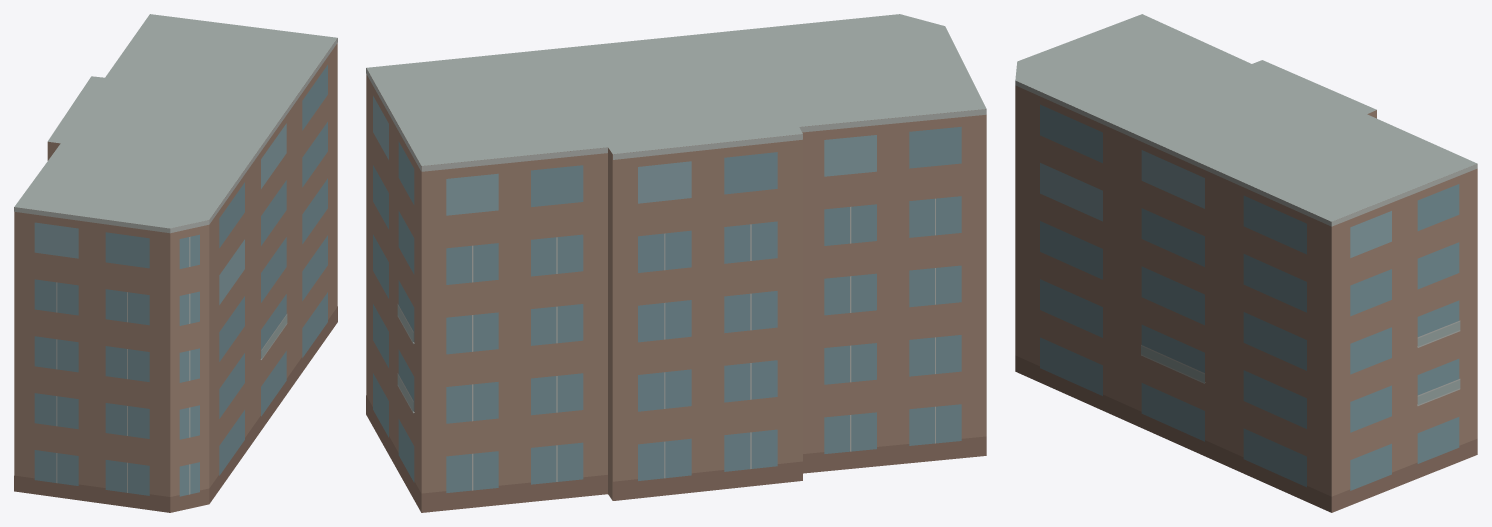
File: survey-upis-32584593.glb
The picture shows the model from 3 angles, left to right: view 1: azimuth 30°, elevation 25°; view 2: azimuth 150°, elevation 25°; view 3: azimuth 270°, elevation 25°; orthographic projection. The views are drawn at different scales.
Parts seen in each view (by area): view 1: survey-upis-32584593.tmp; view 2: survey-upis-32584593.tmp; view 3: survey-upis-32584593.tmp.
Boxes of the visible parts, x1,y1,x2,y2 form: survey-upis-32584593.tmp: (14, 14, 337, 512); survey-upis-32584593.tmp: (366, 14, 986, 512); survey-upis-32584593.tmp: (1015, 14, 1477, 512).
Bounding box in the file's own units: 22.52 × 14.7 × 21.17.
